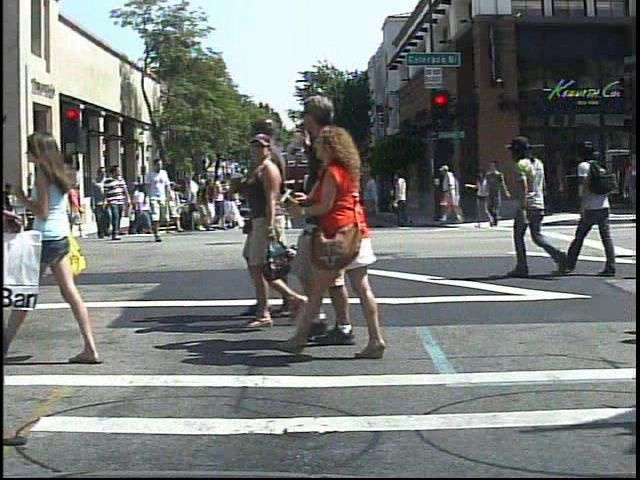person: (271, 90, 395, 346), (4, 119, 106, 371), (295, 118, 396, 358), (567, 130, 630, 282), (507, 125, 566, 283), (141, 160, 176, 243), (101, 161, 131, 241), (42, 166, 72, 245), (440, 161, 464, 225), (20, 183, 43, 243), (91, 182, 111, 221)
